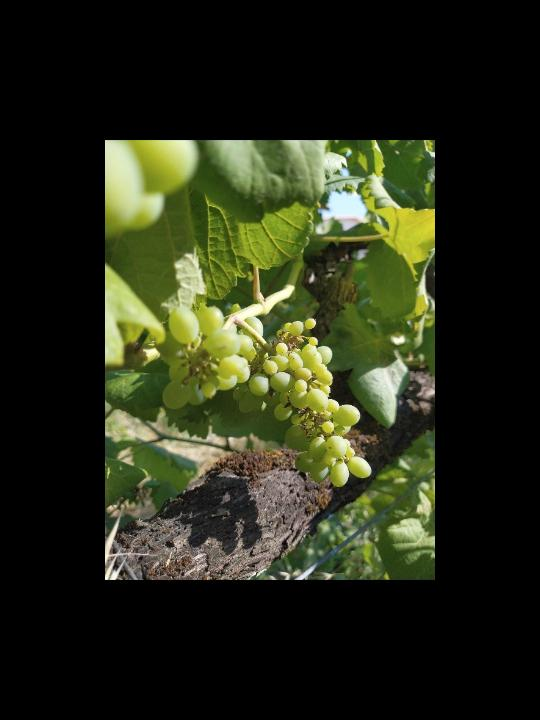grape: (232, 316, 374, 488), (155, 304, 257, 413)
